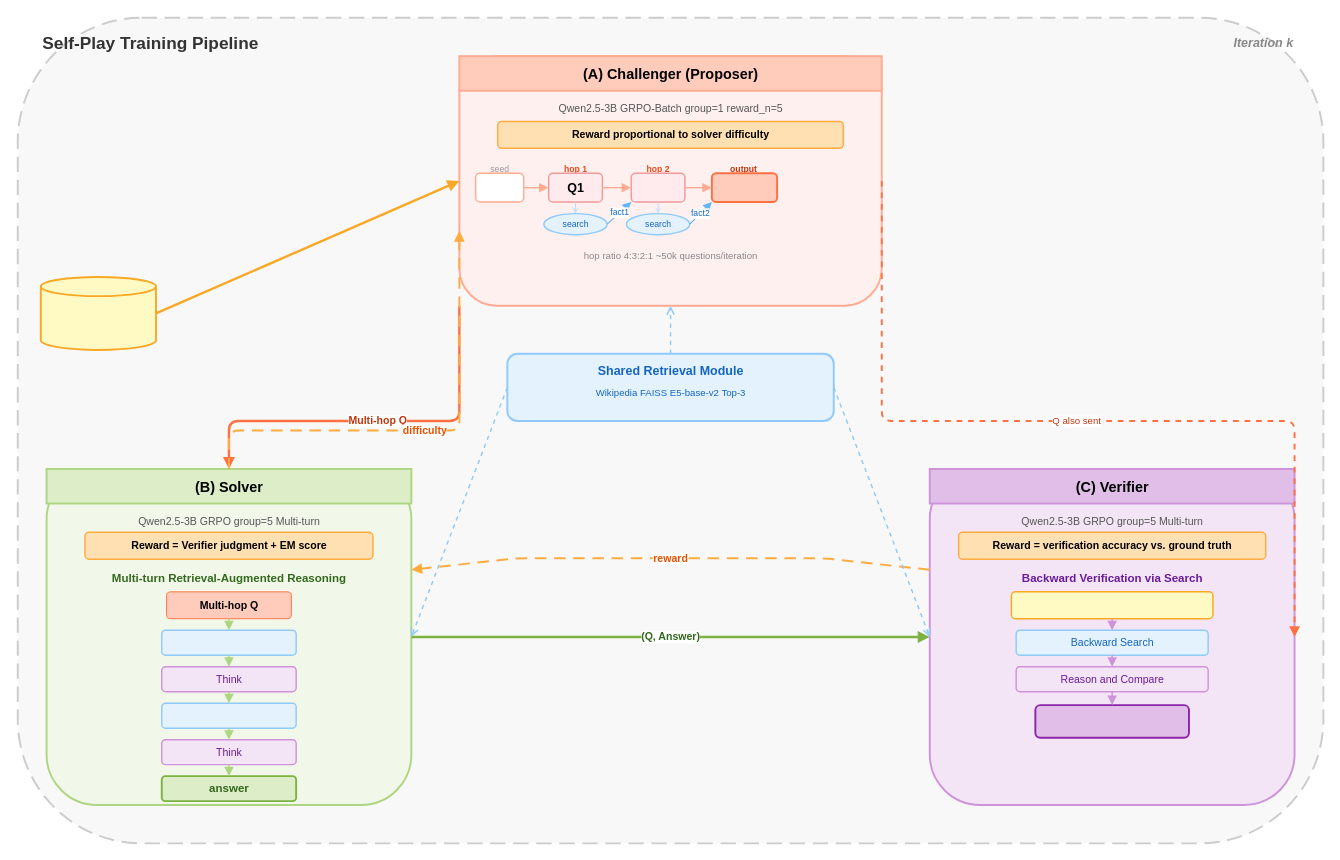
Some shapes in this 1340 by 860 pixel diagram are drawn without their labels. Here are the shapes that lost their labels. From the top down, the box of each, then its label:
(475, 172, 524, 202): Q0
(630, 172, 685, 202): Q2
(710, 172, 778, 203): Q_hard
(39, 276, 156, 350): Seed QA Corpus
(1010, 591, 1213, 619): (Q, proposed answer)
(161, 629, 296, 655): Search 1
(161, 702, 296, 728): Search 2
(1034, 704, 1189, 738): yes / no
